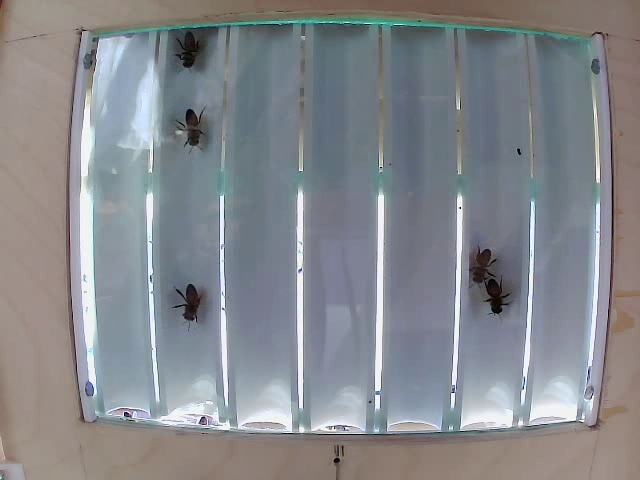bee: (477, 271, 520, 330), (170, 281, 210, 323), (175, 41, 216, 81), (177, 108, 210, 149), (462, 243, 494, 285)
